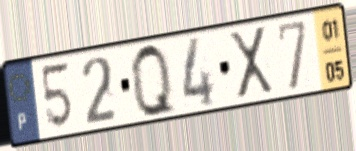2: (80, 54, 118, 128)
4: (179, 35, 219, 110)
5: (38, 62, 76, 133)
7: (275, 17, 310, 93)
Q: (128, 40, 179, 121)
X: (226, 24, 277, 103)
